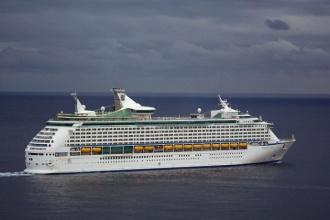youlun: (17, 82, 291, 177)
